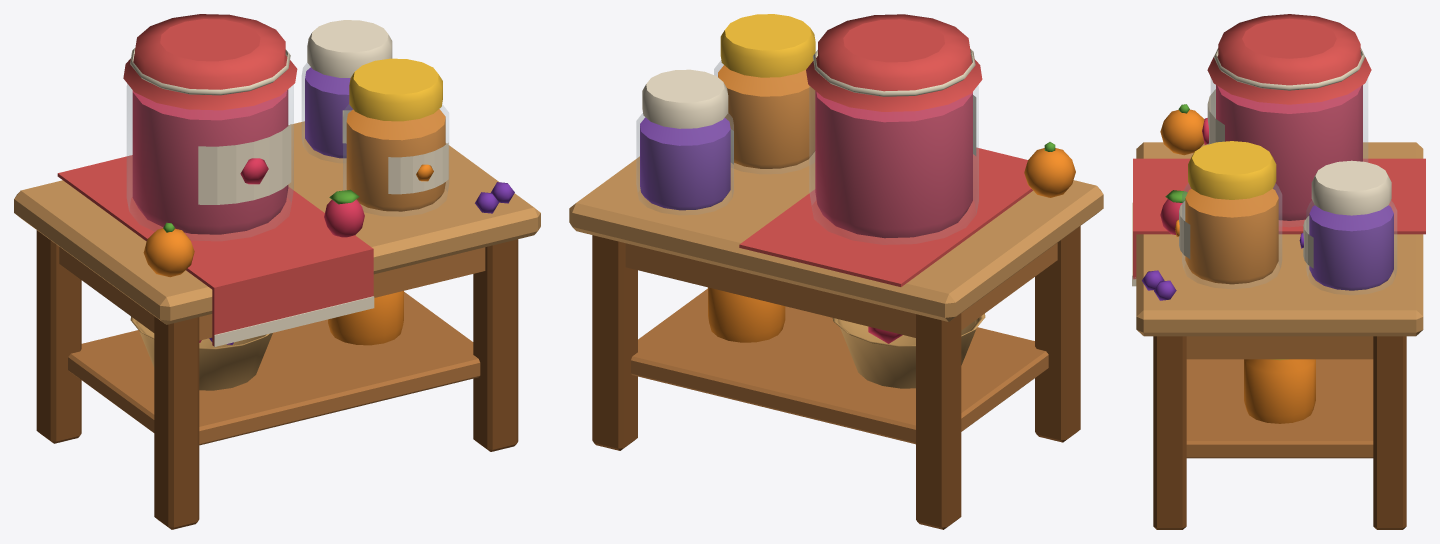
File: jam-jar.glb
The picture shows the model from 3 angles, left to right: view 1: azimuth 30°, elevation 25°; view 2: azimuth 150°, elevation 25°; view 3: azimuth 270°, elevation 25°; orthographic projection. The views are drawn at different scales.
Visible parts, largest first — view 1: JamJar_Body; view 2: JamJar_Body; view 3: JamJar_Body.
Boxes of the visible parts, bbox=[...] form: JamJar_Body: bbox=[14, 14, 540, 529]; JamJar_Body: bbox=[569, 14, 1103, 529]; JamJar_Body: bbox=[1132, 14, 1425, 529].
Bounding box in the file's own units: 0.86 × 0.887 × 0.614.
